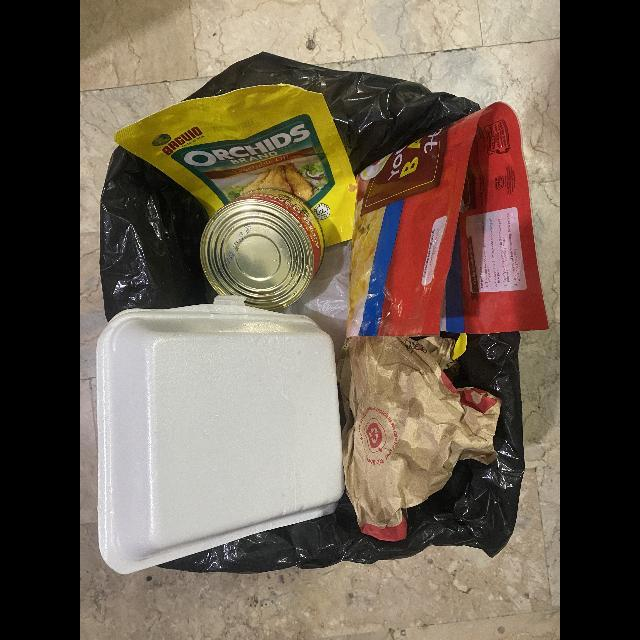metal: (200, 189, 325, 312)
paper: (336, 336, 502, 542)
styrofoam: (96, 295, 345, 576)
wrapper: (344, 102, 550, 342), (114, 84, 357, 247)
